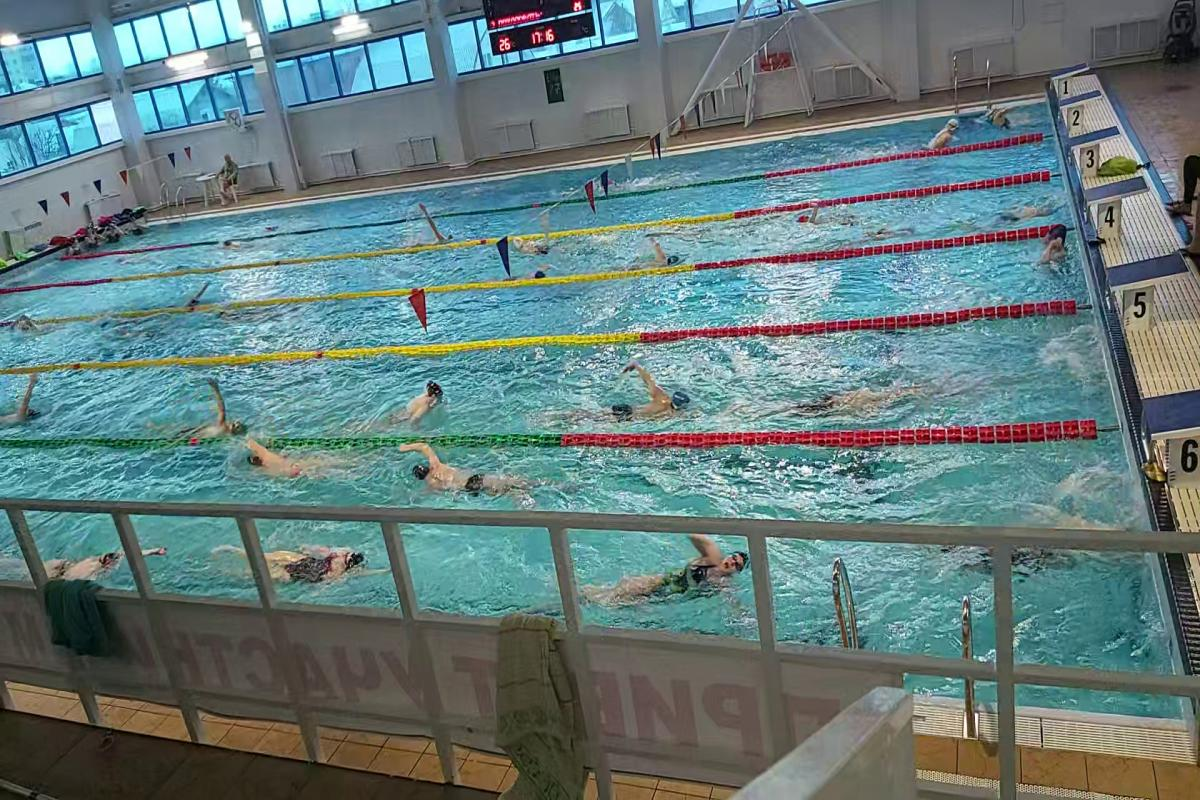swimmer: (581, 536, 748, 630), (397, 436, 557, 514), (214, 539, 381, 594), (575, 355, 694, 431), (788, 372, 914, 422), (233, 436, 350, 489), (173, 381, 252, 441), (383, 378, 457, 431), (4, 371, 59, 424), (51, 549, 130, 581), (410, 203, 468, 245), (790, 198, 858, 232), (1038, 230, 1076, 276), (634, 236, 684, 268), (519, 262, 559, 278)
